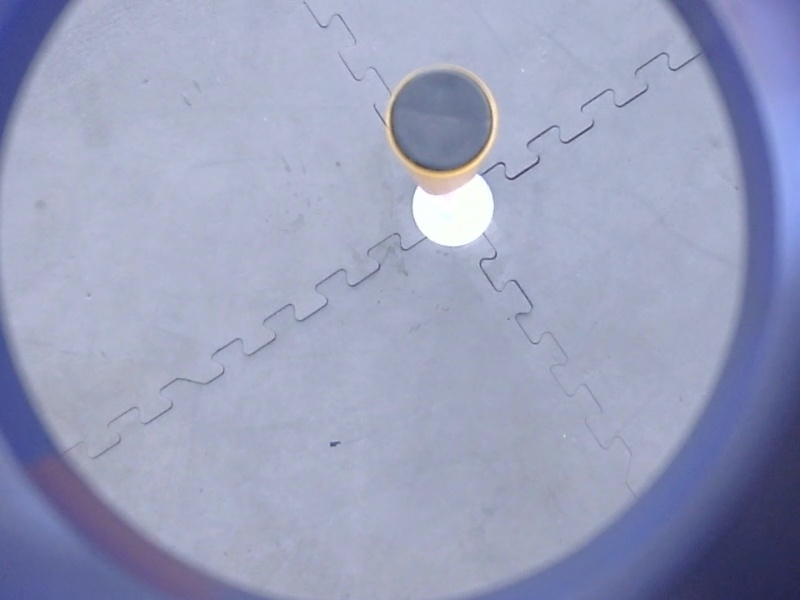tip: (380, 60, 504, 182)
